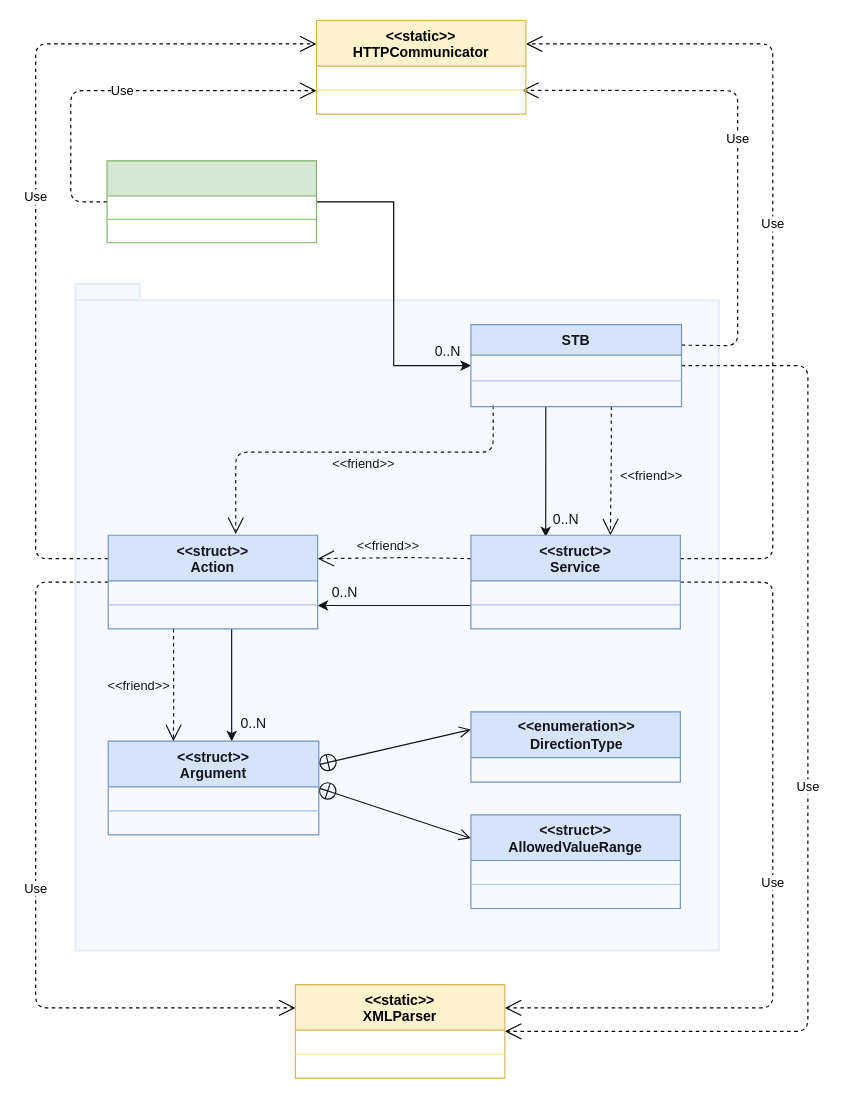
Image size: 845x1099. Some labels were removed from this diagram. Each missing label, with the centre of its shape:
Searcher 1: point (211, 201)
setTopBox: point (397, 616)
